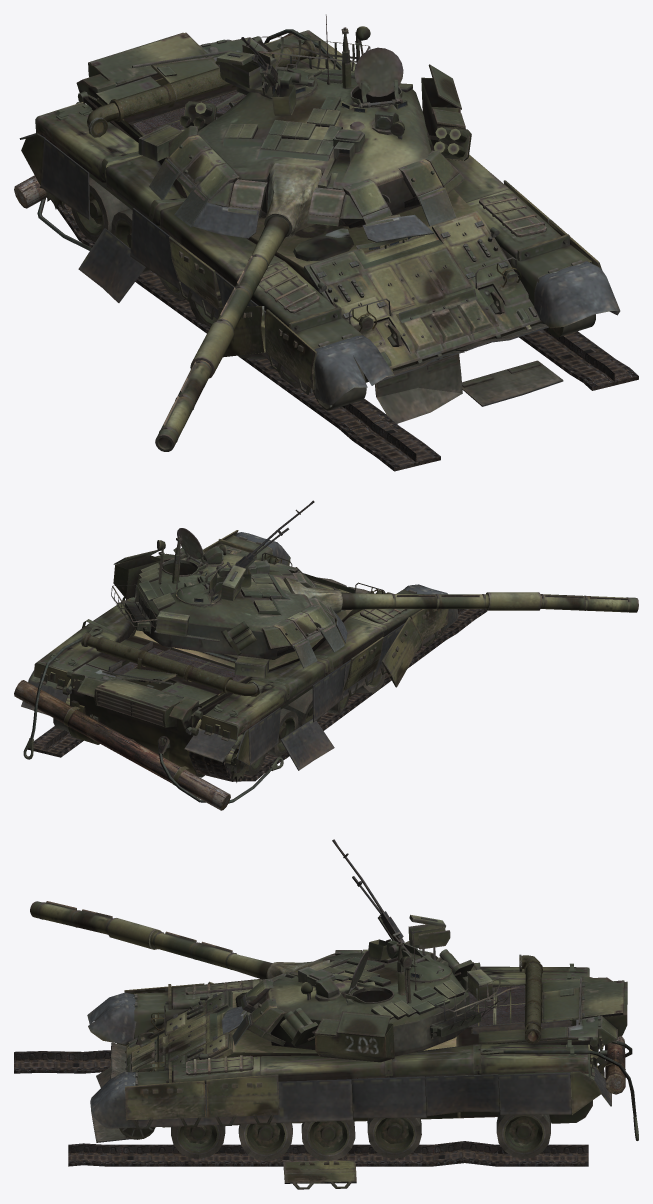
File: t-80_damaged.glb
The picture shows the model from 3 angles, top to bottom: view 1: azimuth 30°, elevation 25°; view 2: azimuth 150°, elevation 25°; view 3: azimuth 270°, elevation 25°; orthographic projection. The views are drawn at different scales.
Visible parts, largest first — view 1: mesh1_t80_0, mesh0_t80track_0; view 2: mesh1_t80_0, mesh0_t80track_0; view 3: mesh1_t80_0, mesh0_t80track_0.
Part boxes in pixels (x1,y1,x2,y2): mesh1_t80_0: [19, 14, 620, 451]; mesh0_t80track_0: [14, 31, 638, 471]; mesh1_t80_0: [21, 500, 638, 803]; mesh0_t80track_0: [14, 609, 487, 810]; mesh1_t80_0: [30, 839, 638, 1189]; mesh0_t80track_0: [14, 954, 625, 1166].
Size of the model in its own units: 7.07 by 3.53 by 8.41.
2 materials, 2 textured.
